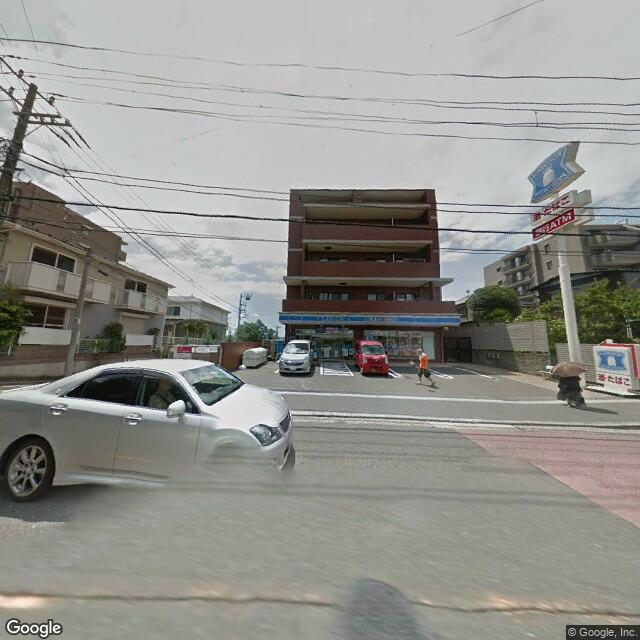lawson: (273, 308, 462, 332), (527, 138, 576, 202), (592, 345, 630, 375)
